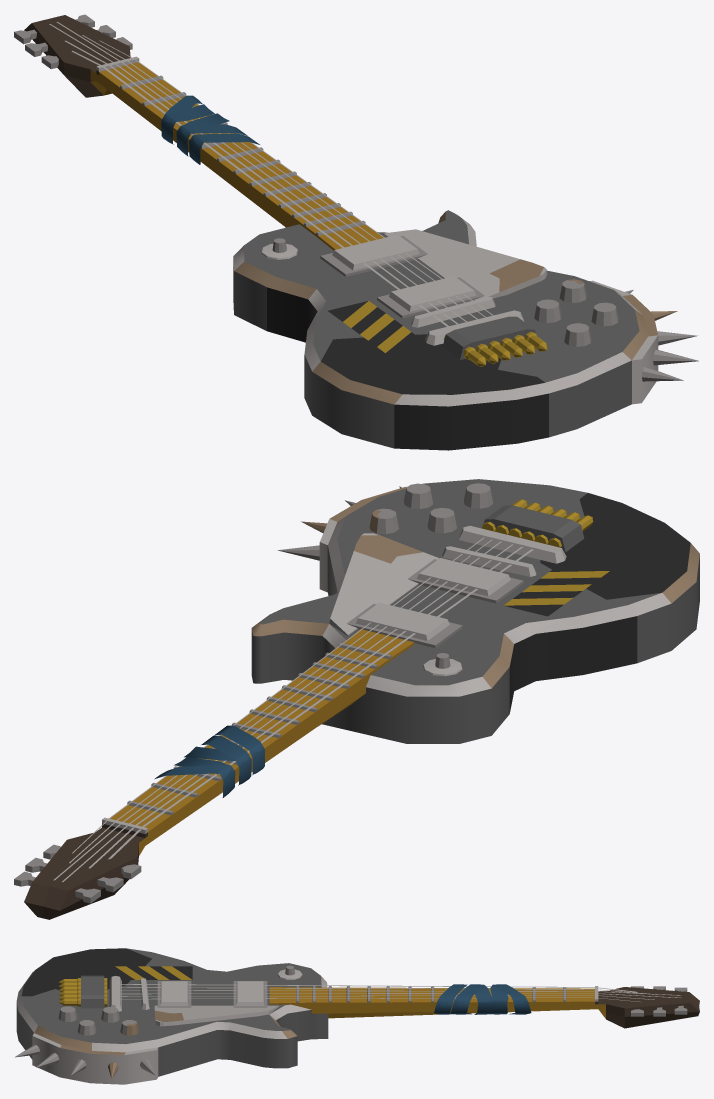
The model's file is Guitar.glb.
3 renders of one model, top to bottom at view 1: azimuth 30°, elevation 25°; view 2: azimuth 150°, elevation 25°; view 3: azimuth 270°, elevation 25°, orthographic. The views are drawn at different scales.
Visible parts, largest first — view 1: Guitar; view 2: Guitar; view 3: Guitar.
Boxes of the visible parts, x1,y1,x2,y2 form: Guitar: (14,14,698,450); Guitar: (14,479,699,919); Guitar: (15,948,699,1084).
Size of the model in its own units: 0.7209 by 0.1291 by 1.8.
1 material, 1 textured.
